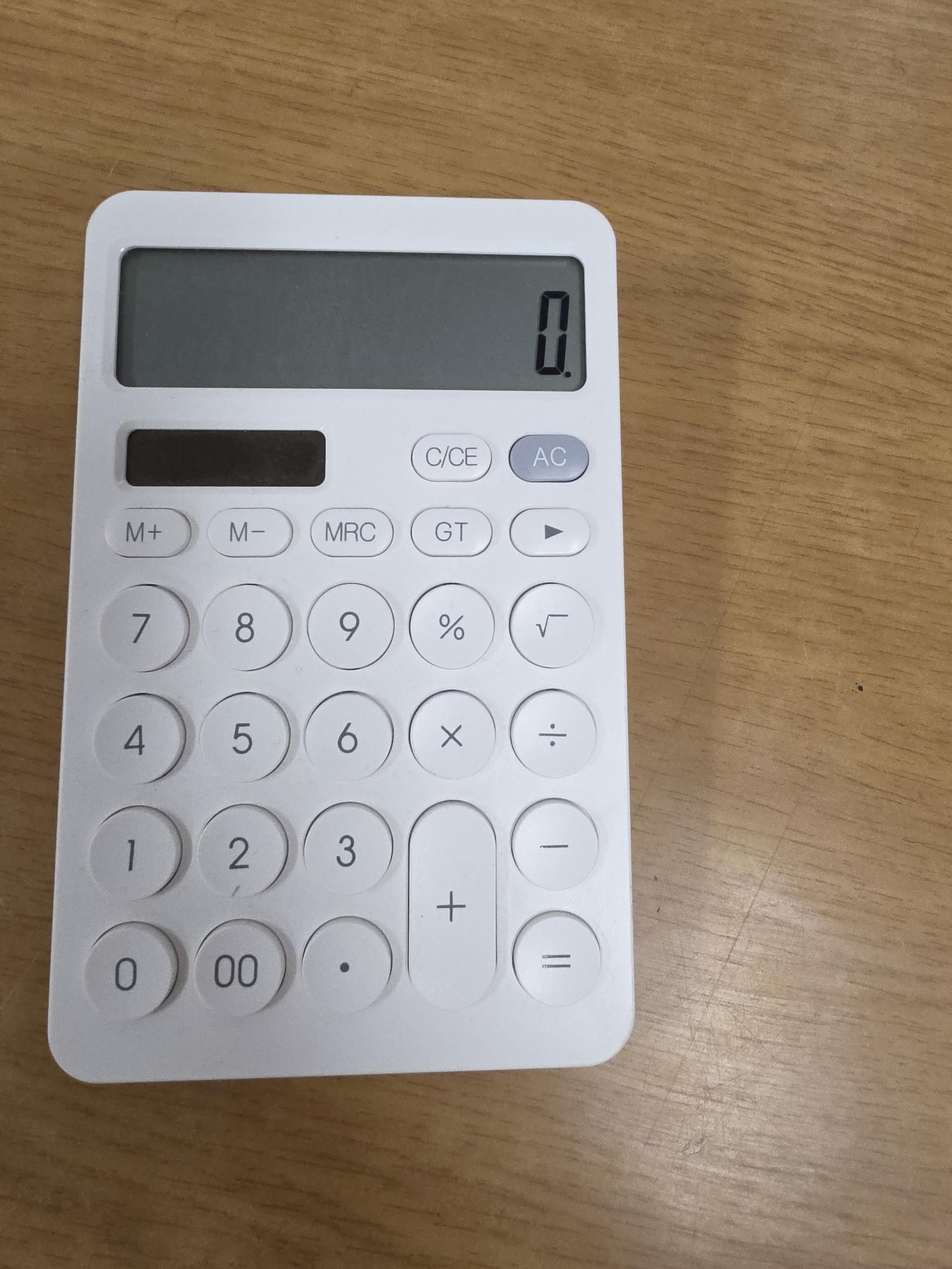calculator: (48, 190, 634, 1084)
